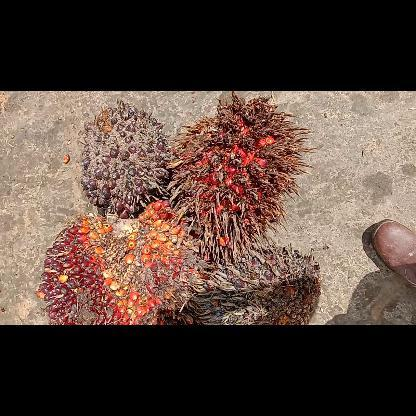Kurang masak: (78, 101, 172, 217)
TBS abnormal: (190, 242, 320, 324)
TBS masak: (36, 200, 188, 324)
Terlalu masak: (170, 91, 312, 255)
